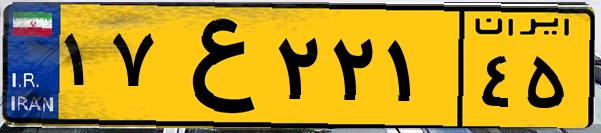1: (385, 28, 445, 110), (57, 26, 110, 100)
2: (270, 28, 330, 110), (330, 28, 385, 110)
4: (475, 38, 525, 113)
5: (525, 38, 570, 115)
7: (110, 28, 158, 98)
ع: (158, 12, 270, 120)
